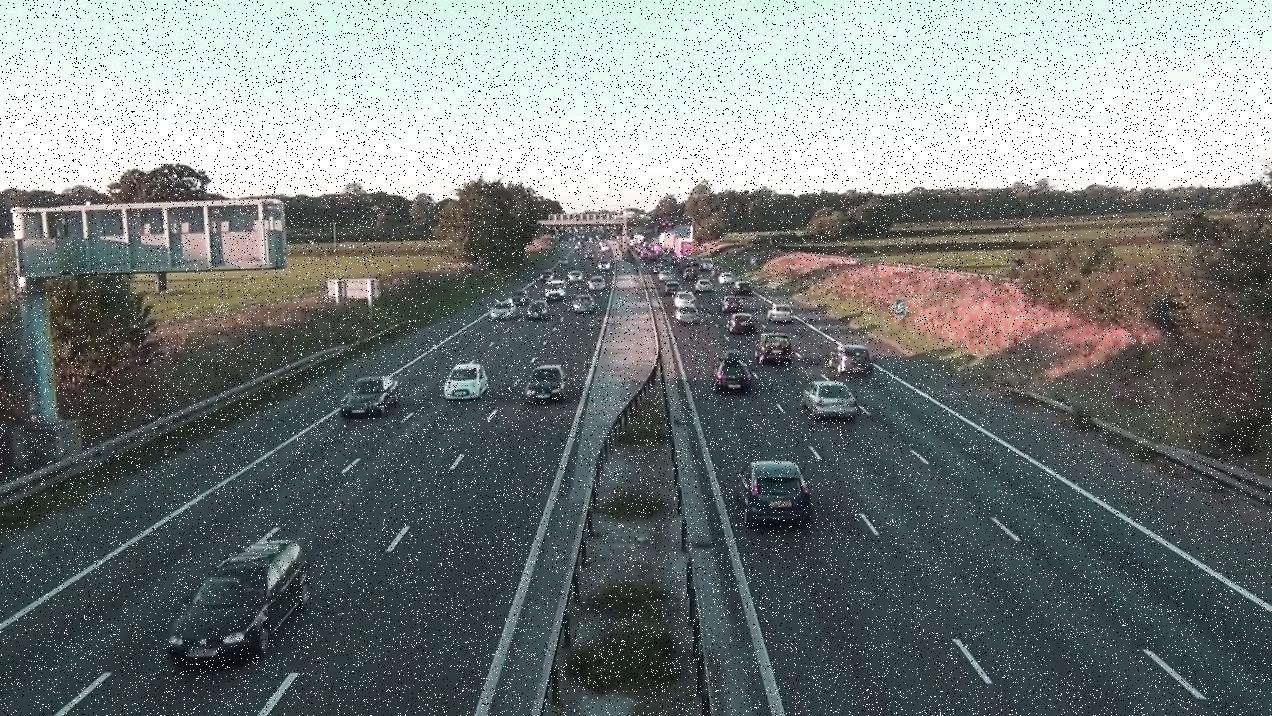car: (160, 529, 314, 675), (729, 459, 812, 529), (339, 374, 403, 417), (801, 384, 861, 423), (441, 362, 489, 401), (520, 366, 567, 405), (713, 355, 757, 395), (827, 345, 873, 376), (759, 333, 796, 364), (725, 316, 754, 336), (519, 300, 547, 320), (569, 293, 597, 313), (675, 304, 700, 325), (769, 307, 796, 324), (492, 301, 515, 319), (720, 295, 745, 311), (696, 281, 717, 294), (736, 280, 752, 294)
